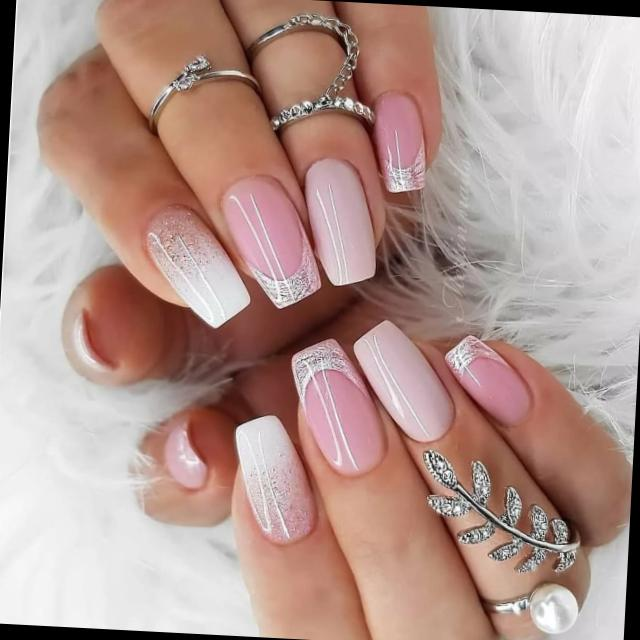Nail: (222, 175, 321, 308), (291, 338, 386, 474), (146, 204, 250, 327), (354, 320, 454, 441), (236, 415, 316, 543), (305, 158, 375, 284), (446, 334, 531, 425), (375, 91, 425, 191), (164, 418, 208, 489), (72, 309, 113, 371)
